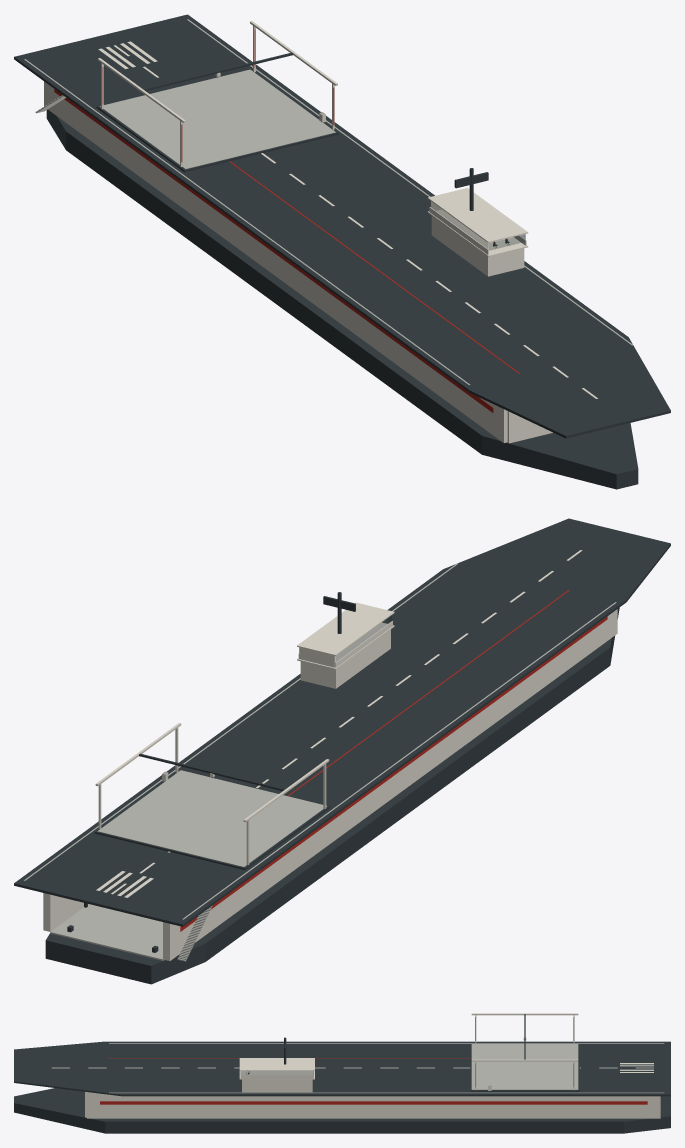
3 views of the same model, one above another, from view 1: azimuth 30°, elevation 25°; view 2: azimuth 150°, elevation 25°; view 3: azimuth 270°, elevation 25° (orthographic). The views are drawn at different scales.
Parts seen in each view (by area): view 1: carrier-flight-deck-painted, aircraft-carrier-fleet-machine, aircraft-carrier-fleet-armor, deck-printer--aircraft-printer-painted, aircraft-carrier-fleet-red; view 2: carrier-flight-deck-painted, aircraft-carrier-fleet-armor, aircraft-carrier-fleet-machine, deck-printer--aircraft-printer-painted, aircraft-carrier-fleet-edge, aircraft-carrier-fleet-red; view 3: carrier-flight-deck-painted, aircraft-carrier-fleet-armor, aircraft-carrier-fleet-machine, deck-printer--aircraft-printer-painted, aircraft-carrier-fleet-red, aircraft-carrier-fleet-glass.
Boxes of the visible parts, x1,y1,x2,y2 form: carrier-flight-deck-painted: (14, 14, 670, 438); aircraft-carrier-fleet-machine: (46, 109, 638, 489); aircraft-carrier-fleet-armor: (44, 81, 552, 443); deck-printer--aircraft-printer-painted: (96, 21, 338, 172); aircraft-carrier-fleet-red: (54, 89, 493, 412); carrier-flight-deck-painted: (14, 518, 670, 926); aircraft-carrier-fleet-armor: (43, 602, 617, 960); aircraft-carrier-fleet-machine: (45, 592, 619, 984); deck-printer--aircraft-printer-painted: (94, 723, 330, 869); aircraft-carrier-fleet-edge: (50, 904, 212, 961); aircraft-carrier-fleet-red: (180, 616, 607, 931); carrier-flight-deck-painted: (14, 1041, 670, 1096); aircraft-carrier-fleet-armor: (85, 1058, 660, 1118); aircraft-carrier-fleet-machine: (14, 1037, 670, 1133); deck-printer--aircraft-printer-painted: (470, 1013, 579, 1091); aircraft-carrier-fleet-red: (100, 1101, 647, 1104); aircraft-carrier-fleet-glass: (240, 1071, 313, 1074).
Bounding box in the file's own units: 253 × 205 × 1326.
